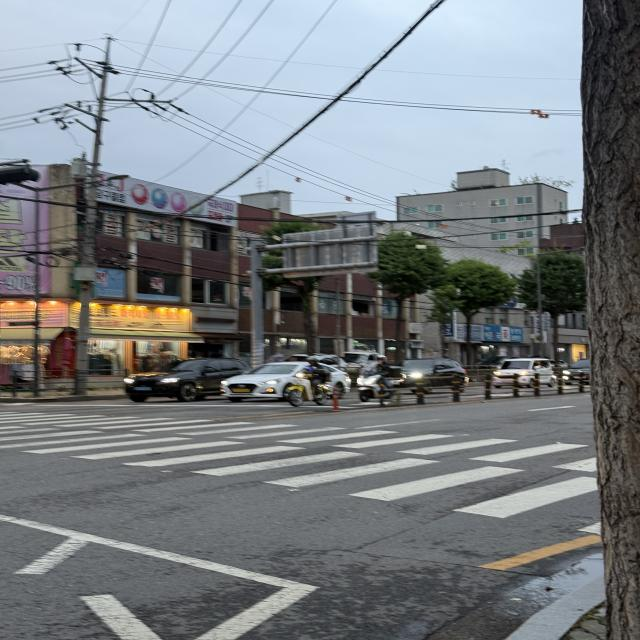car: (112, 350, 261, 406), (212, 356, 356, 402), (380, 356, 478, 394), (485, 353, 562, 390), (559, 354, 606, 386)
motorcycle: (348, 352, 412, 404), (281, 357, 336, 410)
